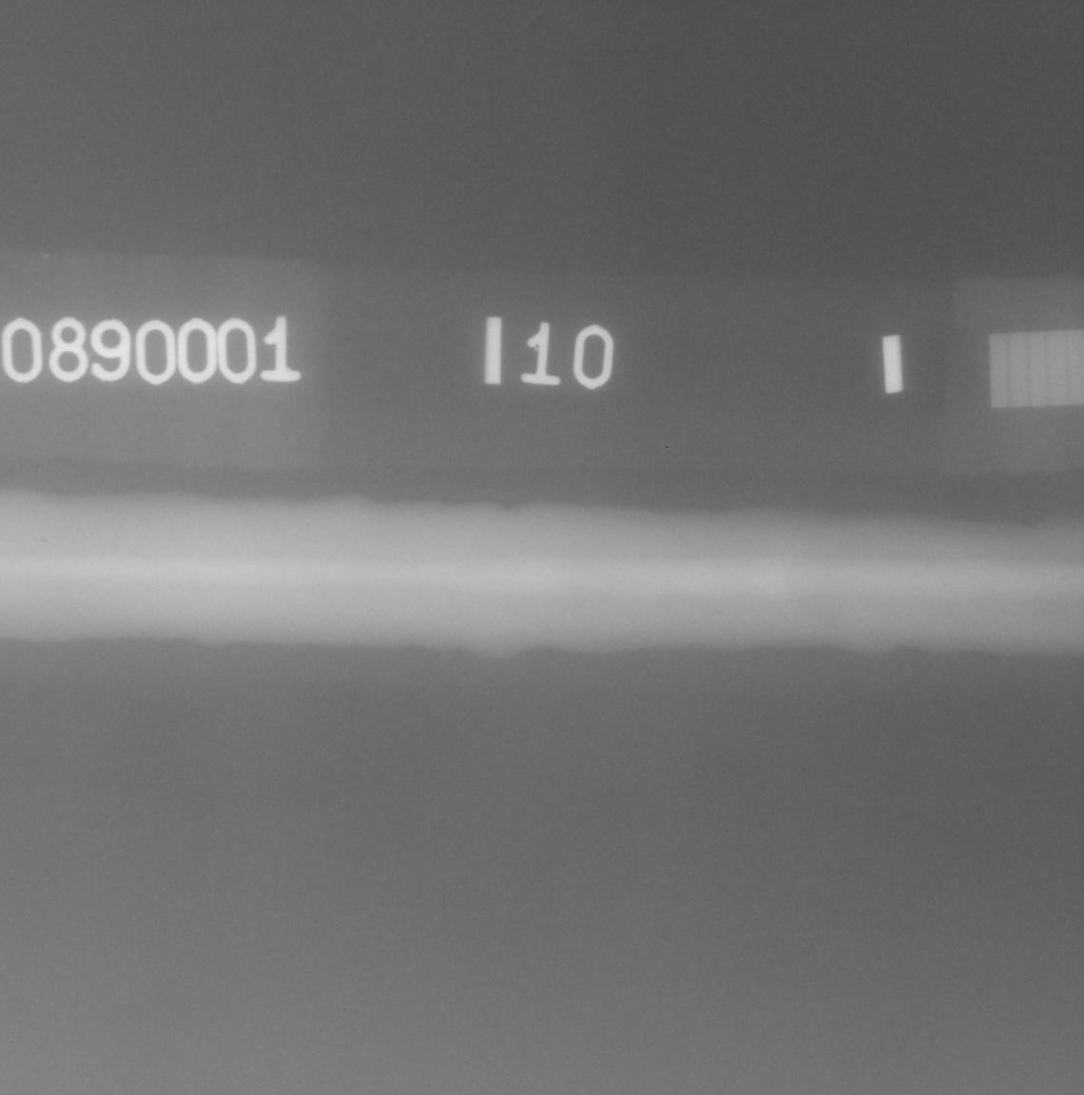Pore/Porosity: (40, 538, 46, 543)
